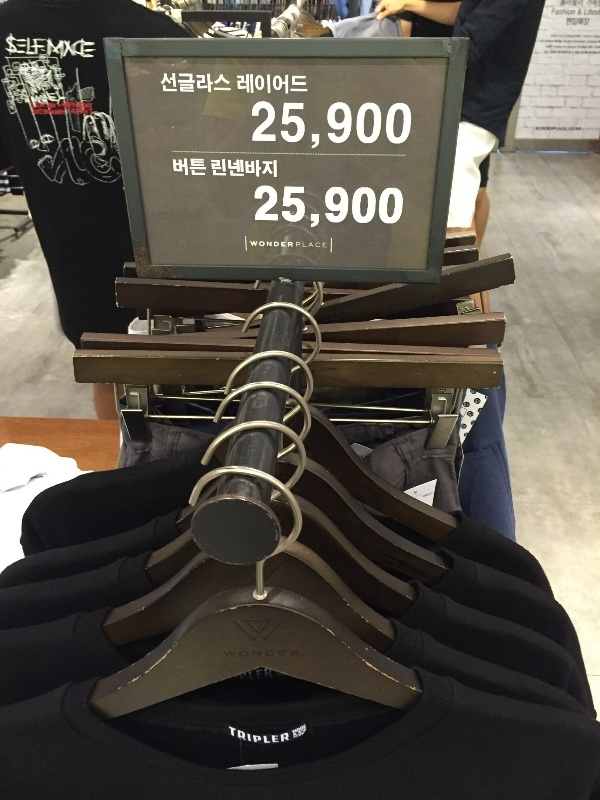text: (1, 57, 16, 202), (17, 57, 32, 202), (33, 57, 48, 202), (49, 57, 64, 202), (65, 57, 80, 202), (81, 57, 96, 202), (97, 57, 112, 202), (113, 57, 126, 202), (257, 102, 272, 149), (273, 102, 288, 149), (289, 102, 304, 149), (305, 102, 320, 149), (321, 102, 336, 149), (337, 102, 352, 149), (353, 102, 368, 149), (369, 102, 384, 149), (385, 102, 400, 149), (257, 186, 272, 228), (273, 186, 288, 228), (289, 186, 304, 228), (305, 186, 320, 228), (321, 186, 336, 228), (337, 186, 352, 228), (353, 186, 368, 228), (369, 186, 384, 228), (385, 186, 400, 228), (401, 102, 412, 149), (545, 33, 560, 57), (561, 33, 576, 57), (577, 33, 592, 57), (273, 725, 289, 747), (17, 36, 32, 58), (33, 36, 48, 58), (49, 36, 64, 58), (65, 36, 80, 58), (241, 725, 256, 747), (257, 725, 272, 747), (81, 36, 95, 58), (226, 725, 240, 747), (161, 73, 176, 93), (177, 73, 192, 93), (193, 73, 208, 93), (209, 73, 224, 93), (241, 75, 256, 95), (257, 75, 272, 95), (273, 75, 288, 95), (289, 75, 304, 95), (177, 160, 192, 179), (193, 160, 208, 179), (209, 160, 224, 179), (225, 160, 240, 179), (241, 160, 256, 179), (257, 160, 272, 179), (4, 36, 16, 58), (251, 102, 256, 149), (291, 724, 304, 741), (593, 33, 600, 57), (225, 649, 240, 659), (241, 649, 256, 659), (257, 649, 272, 659), (273, 649, 288, 659), (257, 241, 272, 250), (273, 241, 288, 250), (289, 241, 304, 250), (305, 241, 320, 250), (401, 186, 404, 228), (225, 73, 231, 93), (539, 33, 544, 57), (561, 9, 576, 16), (577, 18, 590, 26), (289, 649, 299, 659), (578, 9, 592, 16), (561, 1, 576, 7), (254, 186, 256, 228), (566, 18, 576, 26), (172, 160, 176, 179), (273, 160, 277, 179), (321, 241, 328, 250), (237, 75, 240, 95), (305, 75, 308, 95), (552, 9, 560, 16), (584, 9, 592, 16), (250, 241, 256, 250), (305, 724, 308, 741), (593, 9, 600, 16), (577, 1, 584, 7), (593, 1, 600, 6), (586, 1, 592, 6)
